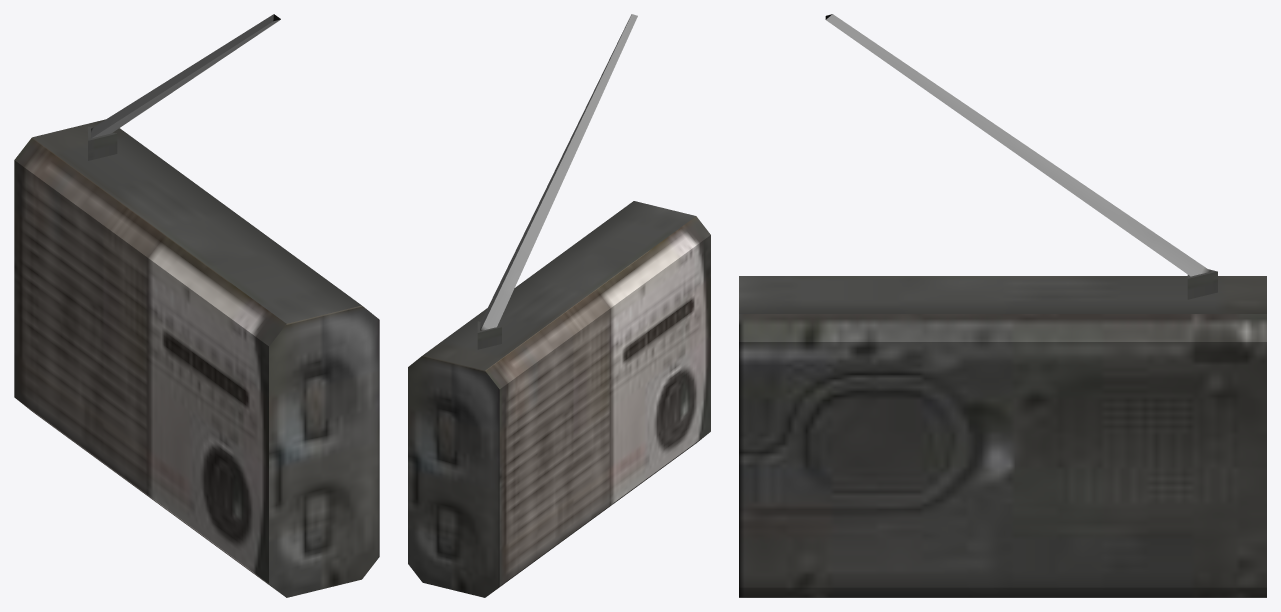
File: RadioWatlas.fbx
The picture shows the model from 3 angles, left to right: view 1: azimuth 30°, elevation 25°; view 2: azimuth 150°, elevation 25°; view 3: azimuth 270°, elevation 25°; orthographic projection. The views are drawn at different scales.
Parts seen in each view (by area): view 1: radio_1; view 2: radio_1; view 3: radio_1.
Part boxes in pixels (bbox=[...]): radio_1: bbox=[14, 14, 379, 597]; radio_1: bbox=[408, 14, 710, 597]; radio_1: bbox=[739, 14, 1266, 597].
Size of the model in its own units: 2.83 by 13.31 by 11.32.
Materials: 1 (1 with a texture image).
